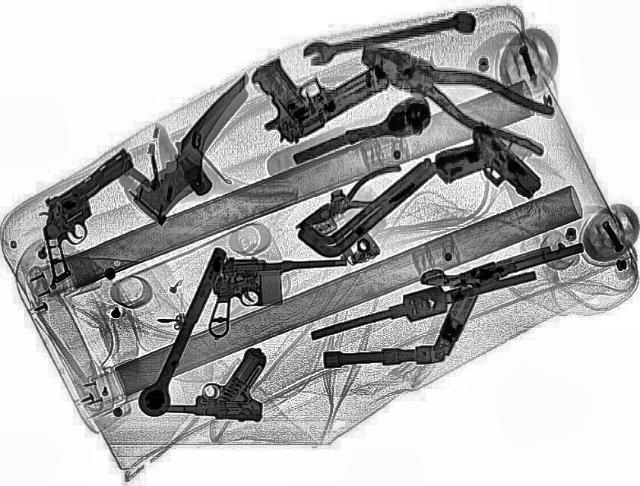Gun: (1, 150, 188, 274), (220, 25, 398, 146), (418, 122, 550, 219), (206, 255, 352, 340), (412, 230, 556, 300), (154, 344, 268, 422)
Pliers: (346, 30, 578, 159), (282, 160, 422, 242)
Wrench: (298, 6, 480, 68)
